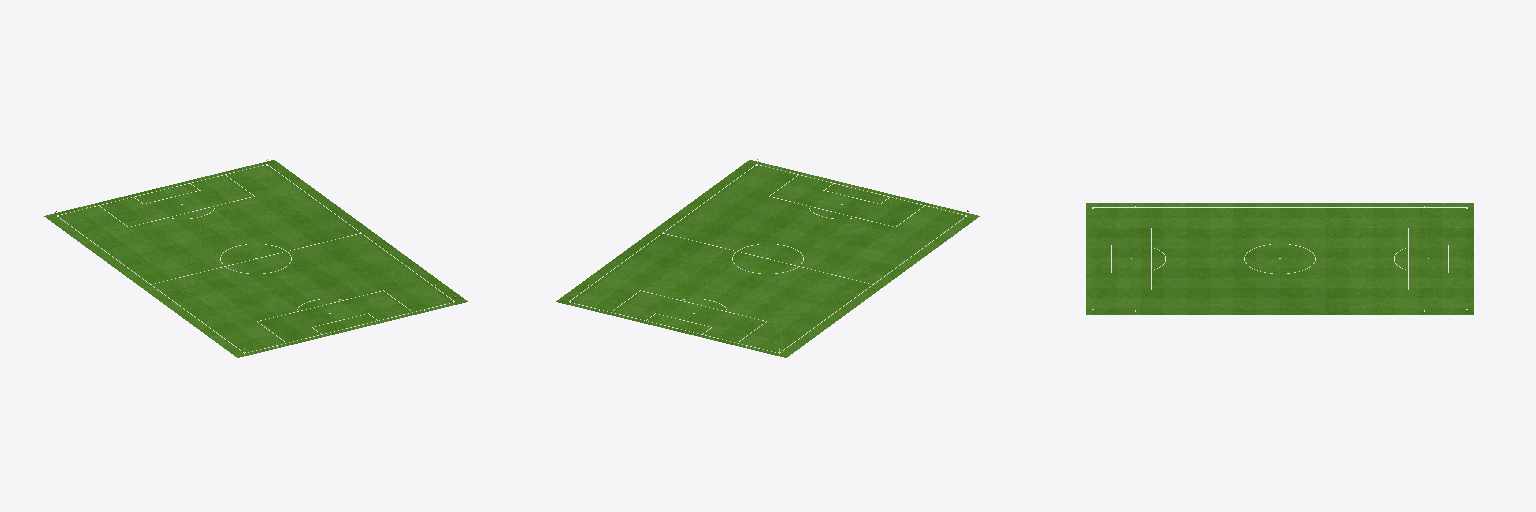
3 views of the same model, side by side, from view 1: azimuth 30°, elevation 25°; view 2: azimuth 150°, elevation 25°; view 3: azimuth 270°, elevation 25° (orthographic).
Parts seen in each view (by area): view 1: campo01; view 2: campo01; view 3: campo01.
Boxes of the visible parts, x1,y1,x2,y2 form: campo01: [44, 160, 467, 357]; campo01: [556, 160, 979, 357]; campo01: [1086, 203, 1473, 314].
Bounding box in the file's own units: 74.26 × 1.8 × 108.
4 materials, 2 textured.